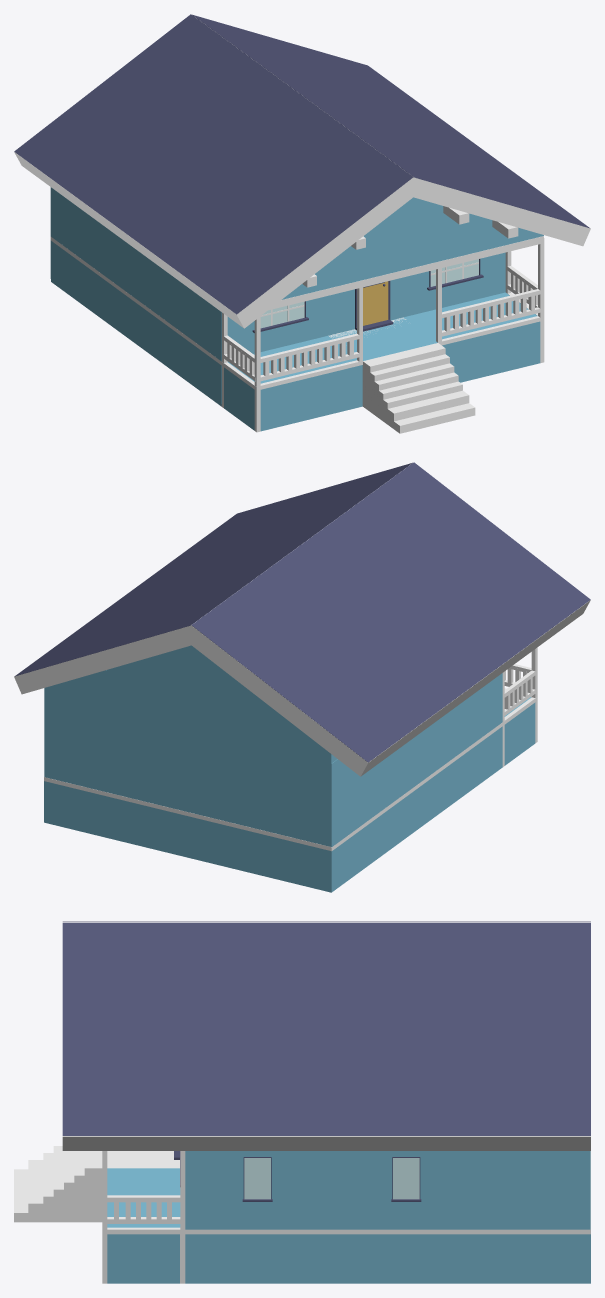
The model's file is low-poly-house-new4.glb.
The picture shows the model from 3 angles, top to bottom: view 1: azimuth 30°, elevation 25°; view 2: azimuth 150°, elevation 25°; view 3: azimuth 270°, elevation 25°; orthographic projection. The views are drawn at different scales.
Visible parts, largest first — view 1: Cube_4_3, Cube_1_5, Cube_1_4, Cube_5_5, Cube, Cube_1, Cube_2_4, Cube_5_4, Cube_3_4, Cube_15_4, Cube_4_4, Cube_6_7 (+16 smaller); view 2: Cube_4_3, Cube_1_5, Cube_1_4, Cube_5_5, Cube, Cube_5_4, Cube_2_4, Cube_1, Cube_3_4, Cube_4_4, Cube_5_3, Cube_6_2; view 3: Cube_1_4, Cube_1_5, Cube_5_5, Cube_1, Cube_5_6, Cube_1_13, Cube_15_4, Cube_12_2, Cube_12_3, Cube_6_7, Cube_2_15, Cube_3_13 (+8 smaller).
Boxes of the visible parts, x1,y1,x2,y2 form: Cube_4_3: (14,14,413,314); Cube_1_5: (50,187,505,403); Cube_1_4: (192,14,589,228); Cube_5_5: (51,279,540,431); Cube: (14,14,420,328); Cube_1: (414,177,590,246); Cube_2_4: (298,222,528,287); Cube_5_4: (282,230,543,299); Cube_3_4: (326,214,492,265); Cube_15_4: (362,390,469,428); Cube_4_4: (363,205,472,240); Cube_6_7: (362,399,475,433); Cube_4_3: (191,462,590,762); Cube_1_5: (44,673,502,889); Cube_1_4: (14,462,412,676); Cube_5_5: (44,697,535,892); Cube: (191,464,590,776); Cube_5_4: (44,687,337,773); Cube_2_4: (45,680,333,757); Cube_1: (14,625,198,694); Cube_3_4: (73,670,305,736); Cube_4_4: (106,662,281,715); Cube_5_3: (134,654,251,692); Cube_6_2: (157,647,228,674); Cube_1_4: (62,922,590,1135); Cube_1_5: (185,1151,590,1229); Cube_5_5: (107,1168,590,1283); Cube_1: (62,922,590,1150); Cube_5_6: (84,1151,179,1175); Cube_1_13: (43,1153,102,1215); Cube_15_4: (28,1160,102,1222); Cube_12_2: (393,1158,419,1199); Cube_12_3: (244,1158,270,1199); Cube_6_7: (14,1169,102,1222); Cube_2_15: (53,1146,102,1196); Cube_3_13: (64,1151,102,1189).
Bounding box in the file's own units: 9.41 × 5.92 × 11.18.
